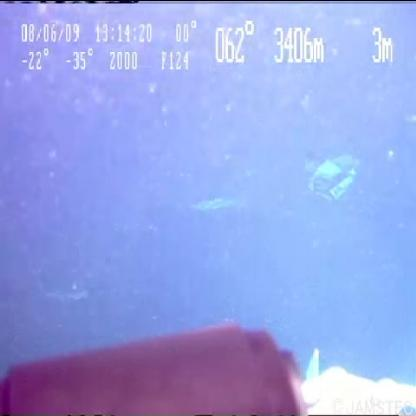Rác: (296, 131, 388, 231)
